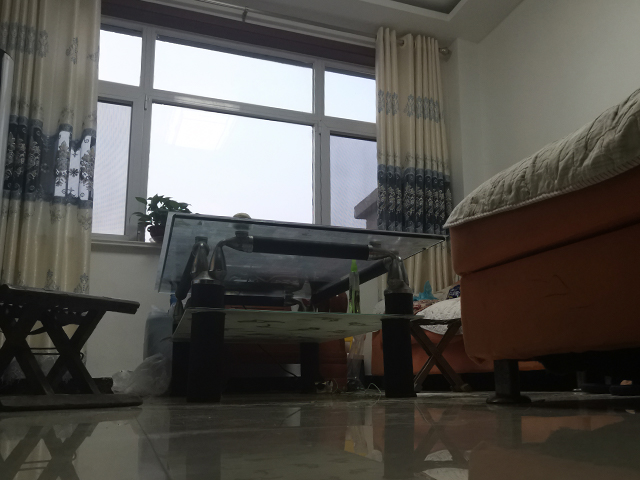curtain: (1, 1, 104, 381), (375, 25, 447, 284)
sofa: (362, 88, 640, 412)
stool: (1, 283, 146, 411), (407, 317, 476, 395)
table: (153, 208, 450, 405)
